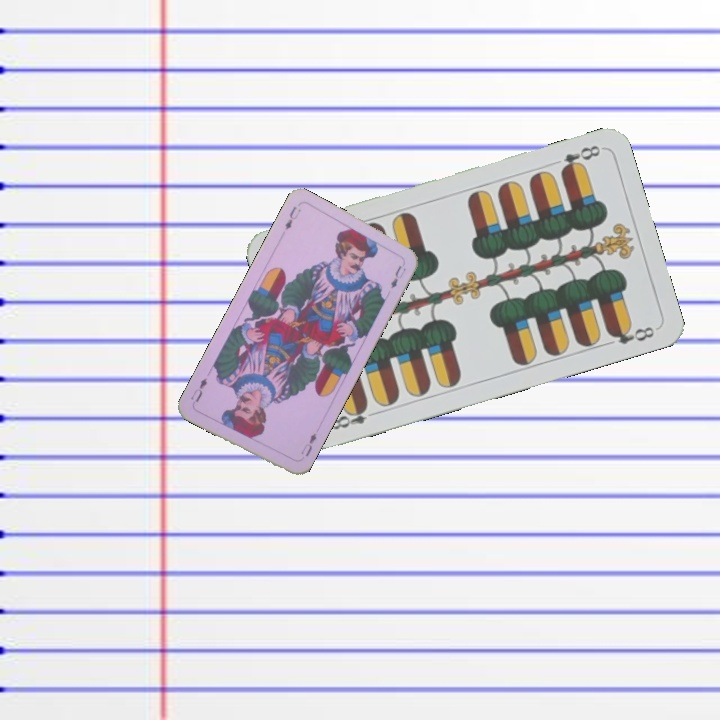E8: (326, 401, 381, 433), (556, 141, 603, 176)
EU: (280, 202, 303, 232), (297, 429, 319, 459)
